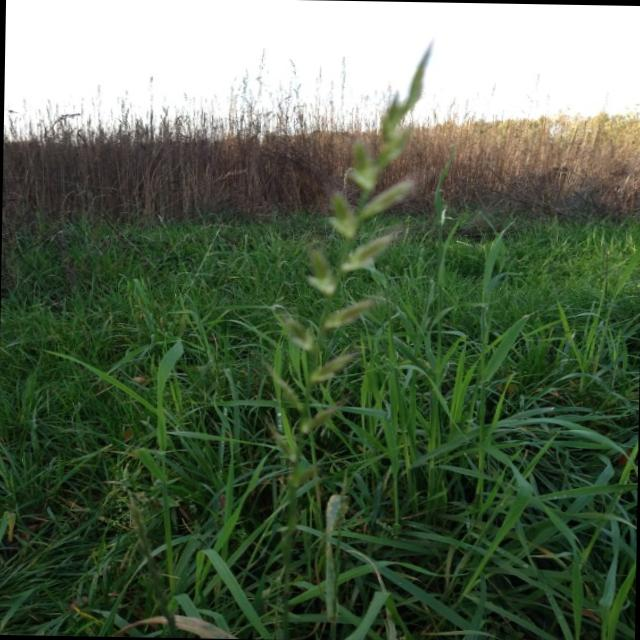Lolium: (262, 36, 439, 474)
